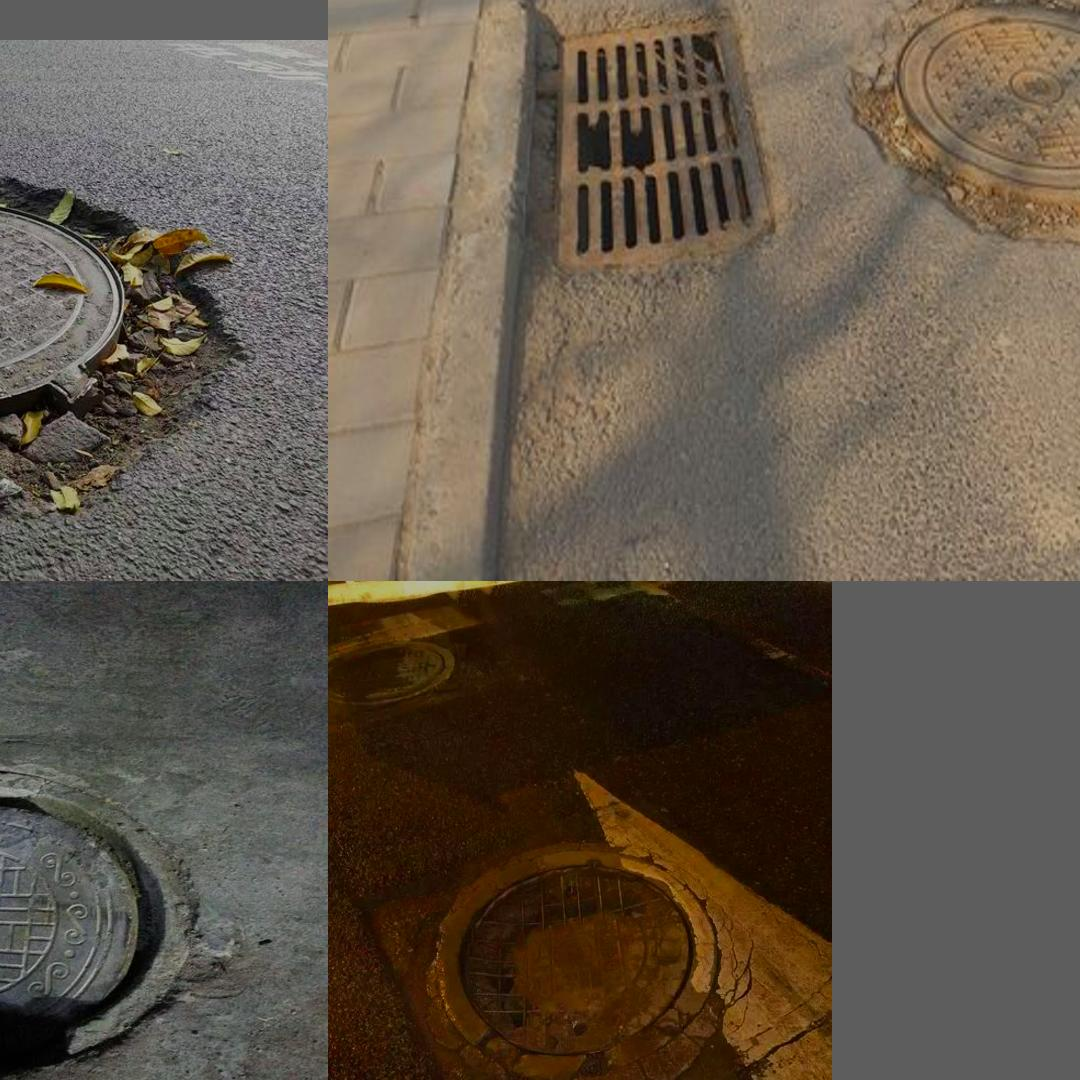circle: (375, 817, 795, 1080), (0, 166, 229, 521), (0, 767, 213, 1080), (836, 0, 1080, 266)
